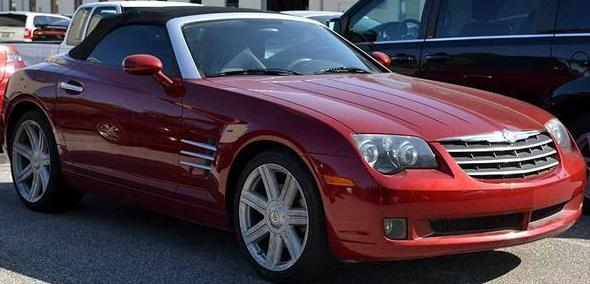front_view: (338, 109, 587, 259)
headlight: (354, 132, 449, 175)
side_glass: (65, 18, 195, 90)
